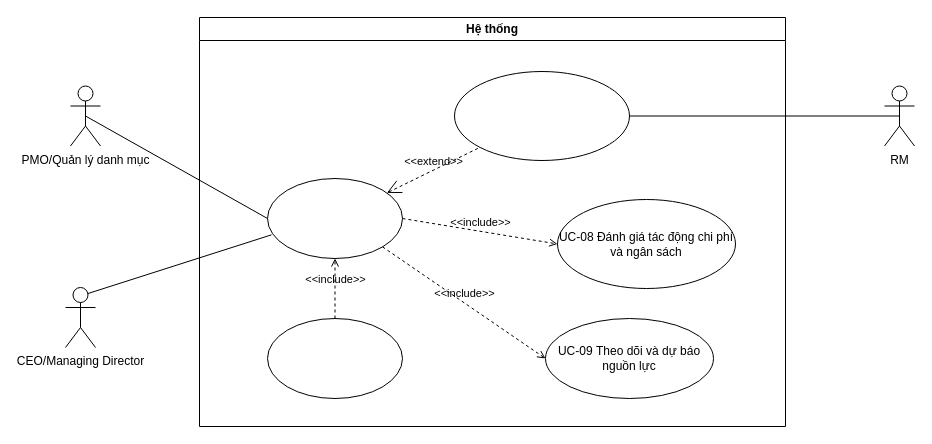
Some shapes in this 932 by 444 pixel diagram are drawn without their labels. Here are the shapes that lost their labels. From the top down, the box of each, then its label:
(454, 70, 630, 160): UC-07.2 Yêu cầu giải trình và hoàn thiện phương án
(266, 178, 402, 258): UC-07.1 Rà soát và đánh giá phương án
(266, 318, 402, 398): UC-07.3 Phê duyệt phương án
